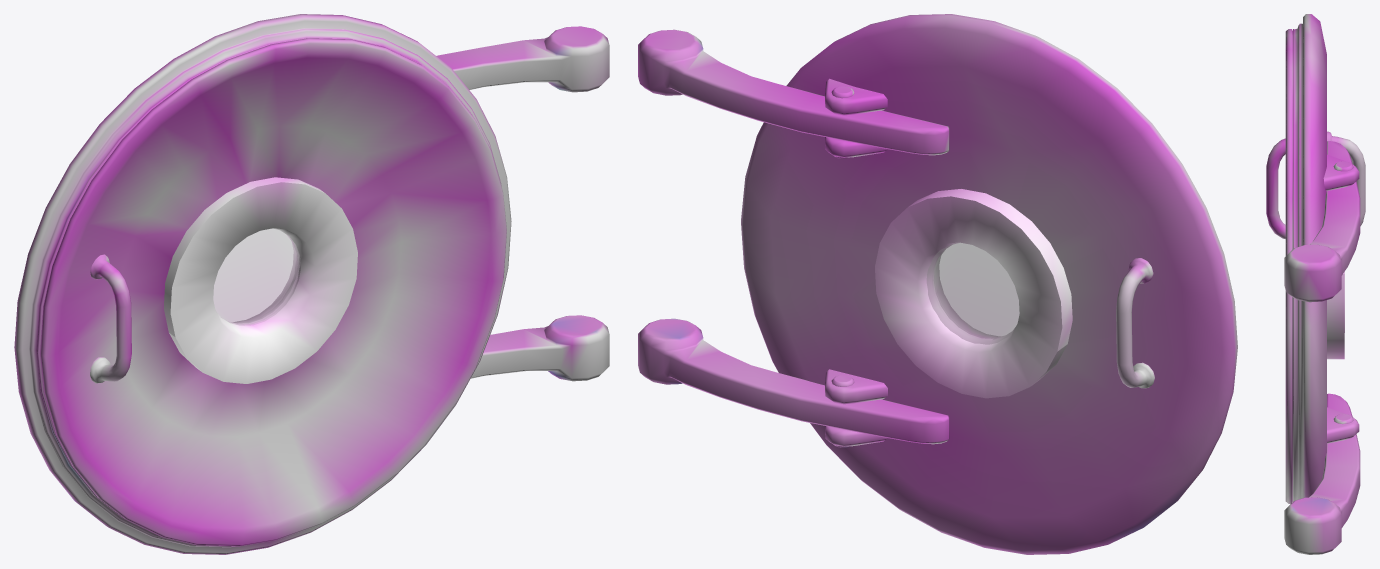
Rendered from SM_Capsul-A_Hatch.fbx.
3 views of the same model, side by side, from view 1: azimuth 30°, elevation 25°; view 2: azimuth 150°, elevation 25°; view 3: azimuth 270°, elevation 25° (orthographic). The views are drawn at different scales.
Parts seen in each view (by area): view 1: SM_Capsul-A_Hatch_LOD0; view 2: SM_Capsul-A_Hatch_LOD0; view 3: SM_Capsul-A_Hatch_LOD0.
Boxes of the visible parts, <box> form: SM_Capsul-A_Hatch_LOD0: <box>14,14,609,554</box>; SM_Capsul-A_Hatch_LOD0: <box>638,14,1237,554</box>; SM_Capsul-A_Hatch_LOD0: <box>1266,14,1365,554</box>.
Bounding box in the file's own units: 158 × 26.32 × 134.
